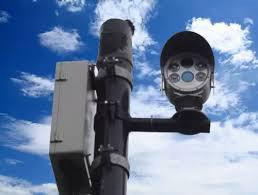Speed-Camera: (146, 26, 223, 133)
